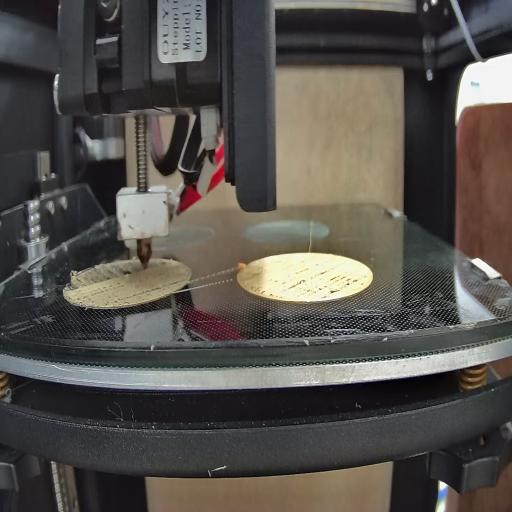under_extrusion: (249, 272, 364, 299), (65, 257, 132, 291), (141, 276, 192, 291)
